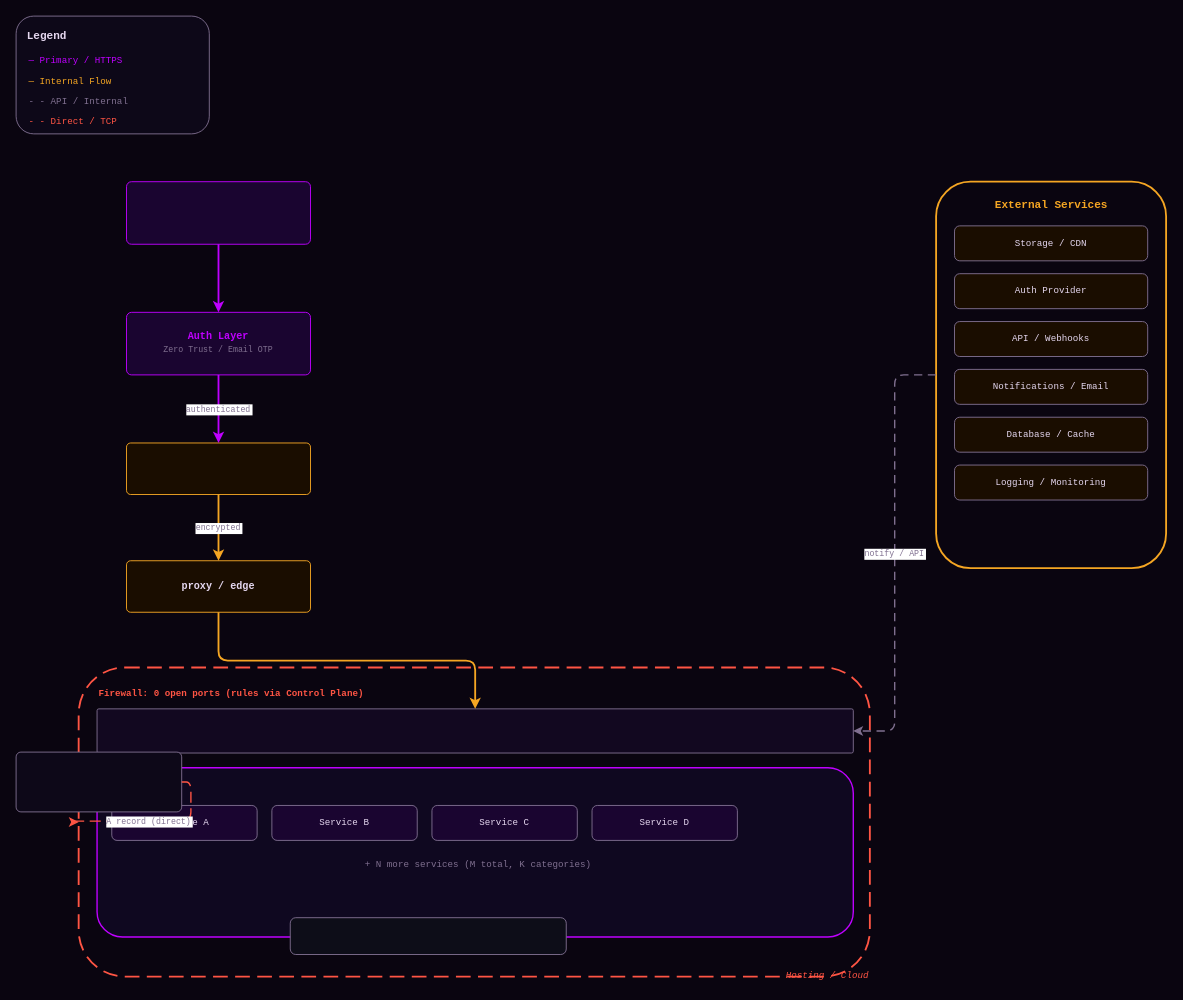
Some shapes in this 1183 by 1000 pixel diagram are drawn without their labels. Each missing label, with the centre of its shape:
"Persistent Volume / Data Store" belongs at point (427, 935).
"Server: Ubuntu 24.04" belongs at point (474, 730).
"TCP Clients db clients, CLI tools" belongs at point (98, 781).
"Tunnel" belongs at point (218, 468).
"Users service.yourdomain.com" belongs at point (218, 212).
